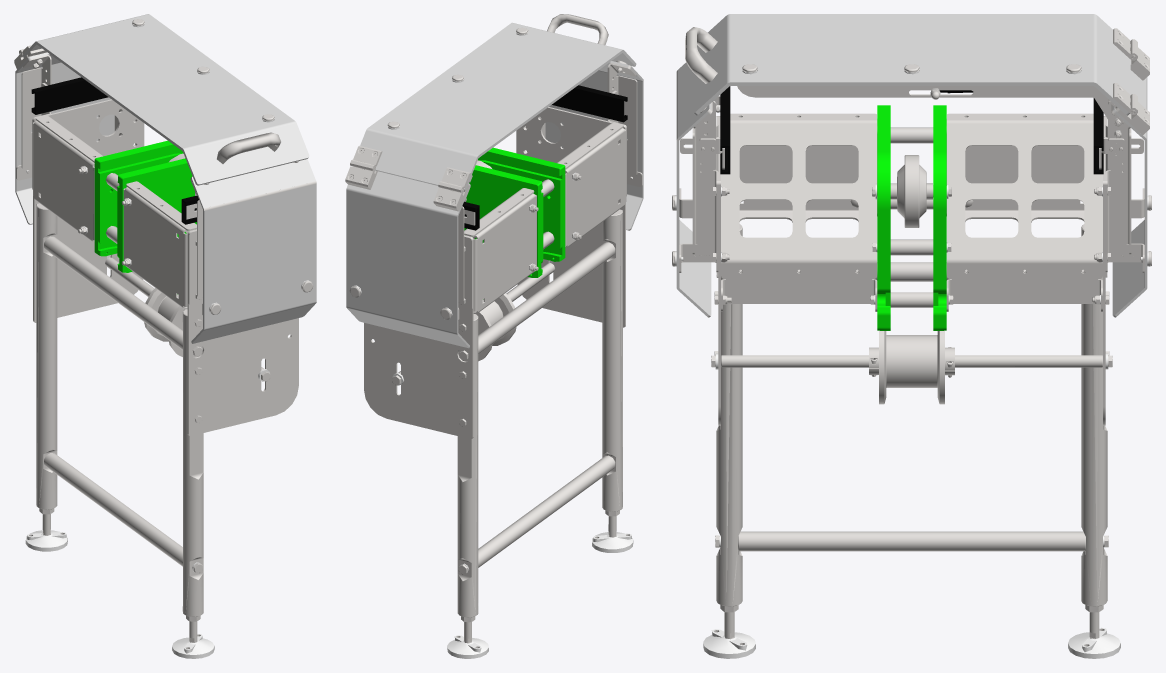
3 views of the same model, side by side, from view 1: azimuth 30°, elevation 25°; view 2: azimuth 150°, elevation 25°; view 3: azimuth 270°, elevation 25° (orthographic). The views are drawn at different scales.
Visible parts, largest first — view 1: base, glass; view 2: base, glass; view 3: base, glass.
Boxes of the visible parts, x1,y1,x2,y2 form: base: (14, 19, 316, 658); glass: (15, 14, 316, 343); base: (345, 14, 643, 658); glass: (346, 22, 643, 348); base: (672, 27, 1151, 658); glass: (676, 14, 1147, 317).
Bounding box in the file's own units: 0.267 × 1.06 × 0.726.
Materials: 1 (1 with a texture image).
